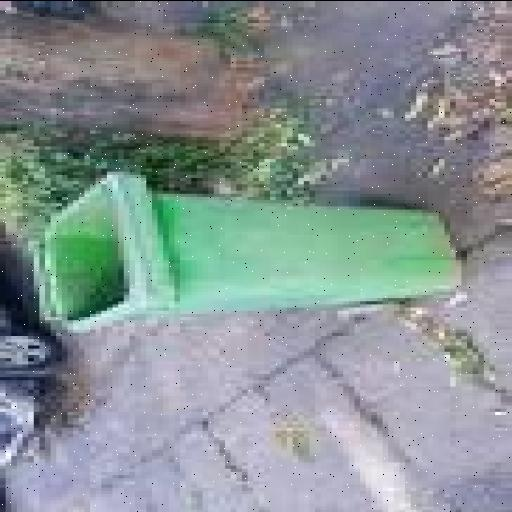poubelle_vide: (32, 156, 468, 340)
